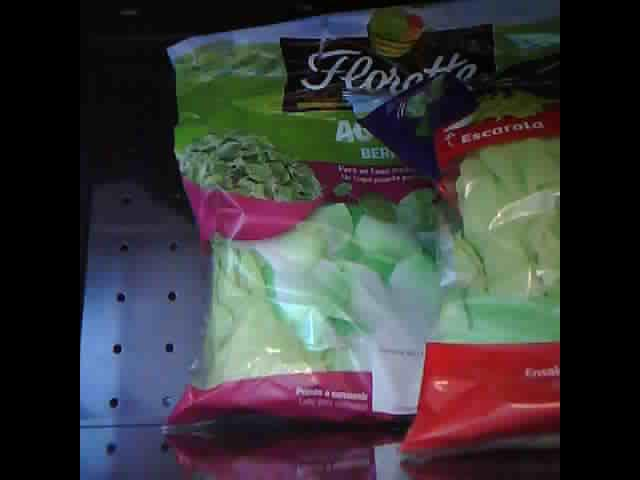florette: (155, 2, 558, 439), (342, 68, 557, 462)
